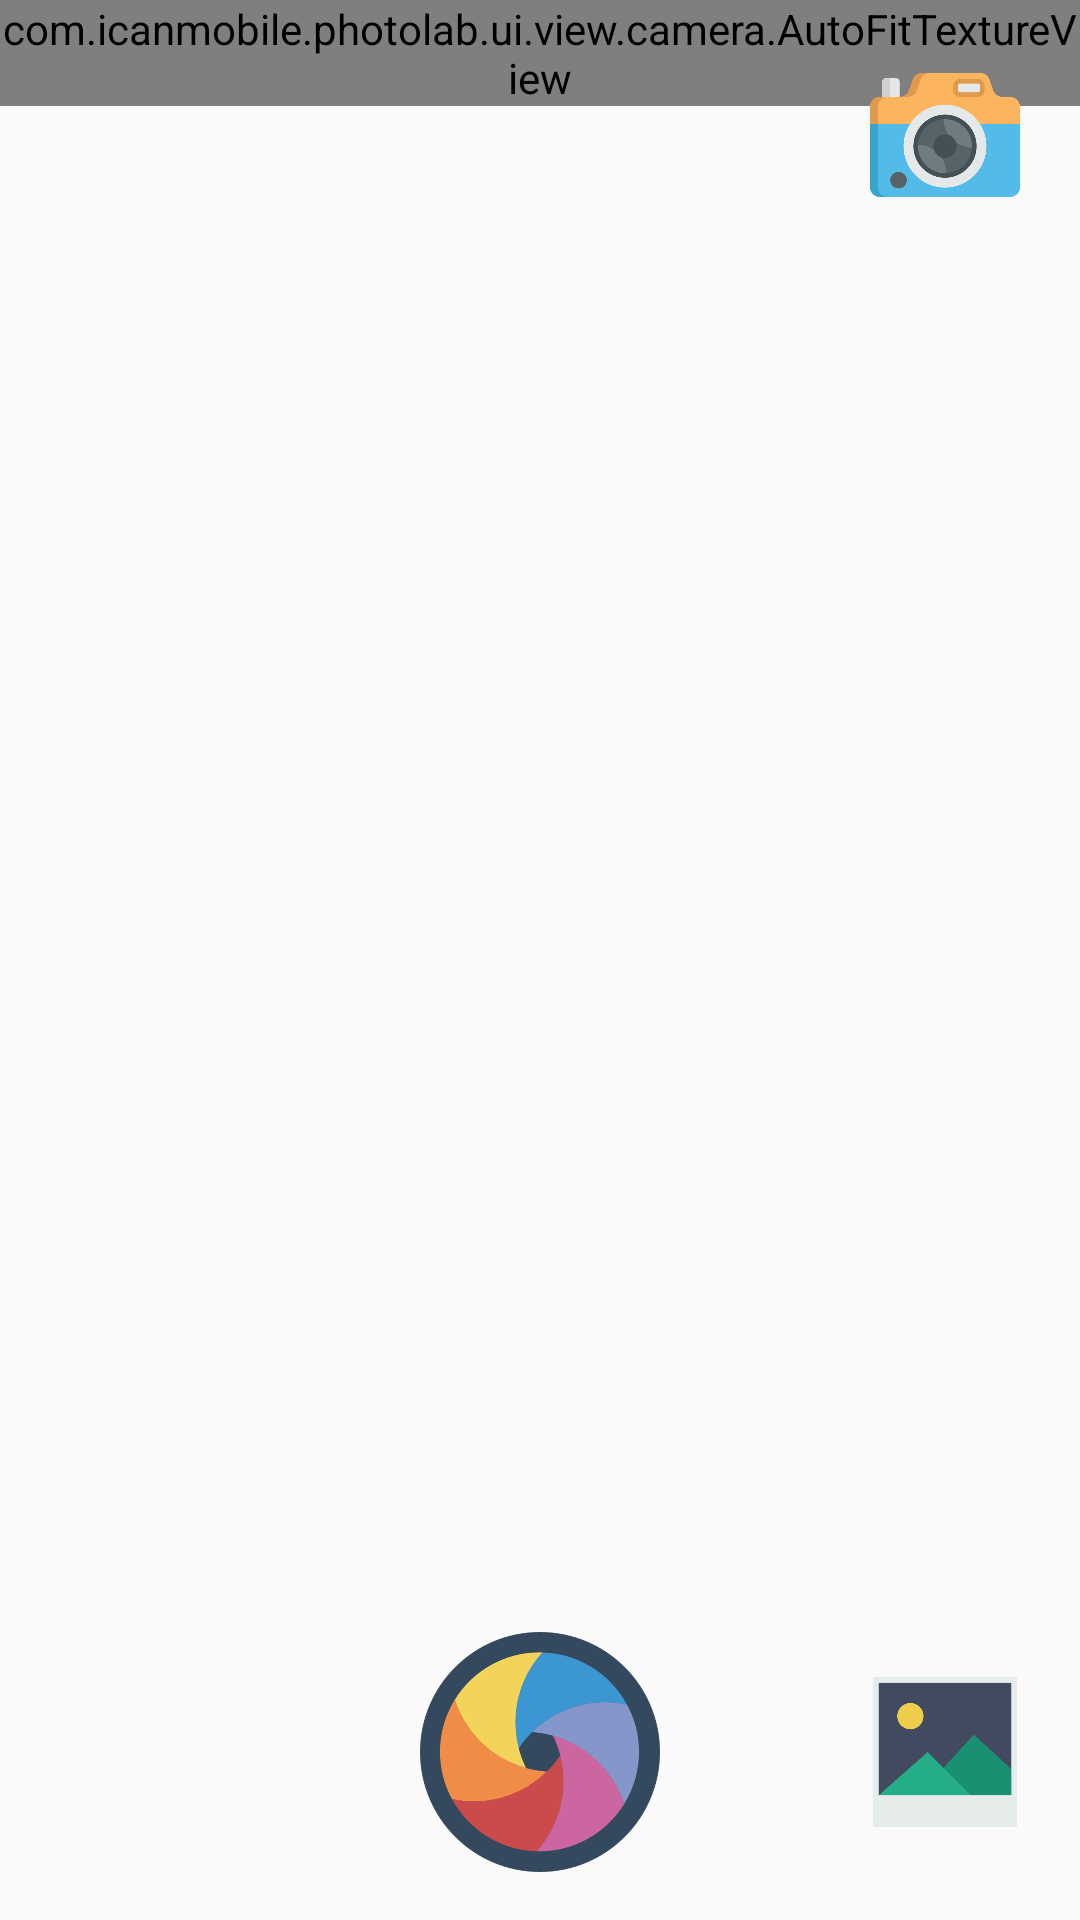

Screen size 1080×1920. Icon name, then its center in pixels as point (x, y):
res gallery: point (945, 1739)
res shutter: point (540, 1752)
